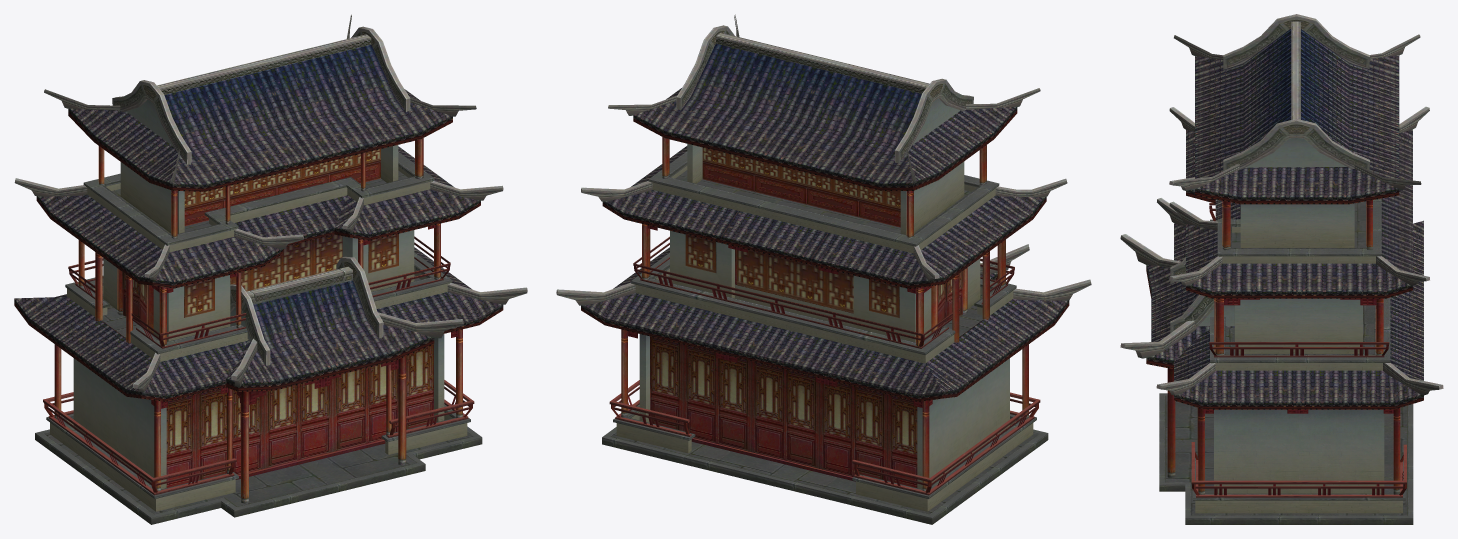
The model's file is SZ_sancengqianzhimingju02.FBX.
The picture shows the model from 3 angles, left to right: view 1: azimuth 30°, elevation 25°; view 2: azimuth 150°, elevation 25°; view 3: azimuth 270°, elevation 25°; orthographic projection.
Visible parts, largest first — view 1: SZ_sancengqianzhimingju02; view 2: SZ_sancengqianzhimingju02; view 3: SZ_sancengqianzhimingju02.
Boxes of the visible parts, box(x1,y1,x2,y2) form: SZ_sancengqianzhimingju02: box(14, 14, 527, 524); SZ_sancengqianzhimingju02: box(556, 14, 1091, 524); SZ_sancengqianzhimingju02: box(1120, 14, 1443, 524).
Bounding box in the file's own units: 1069 × 1000 × 773.
